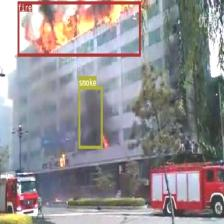fire: (18, 1, 140, 56)
smoke: (78, 86, 102, 148)
